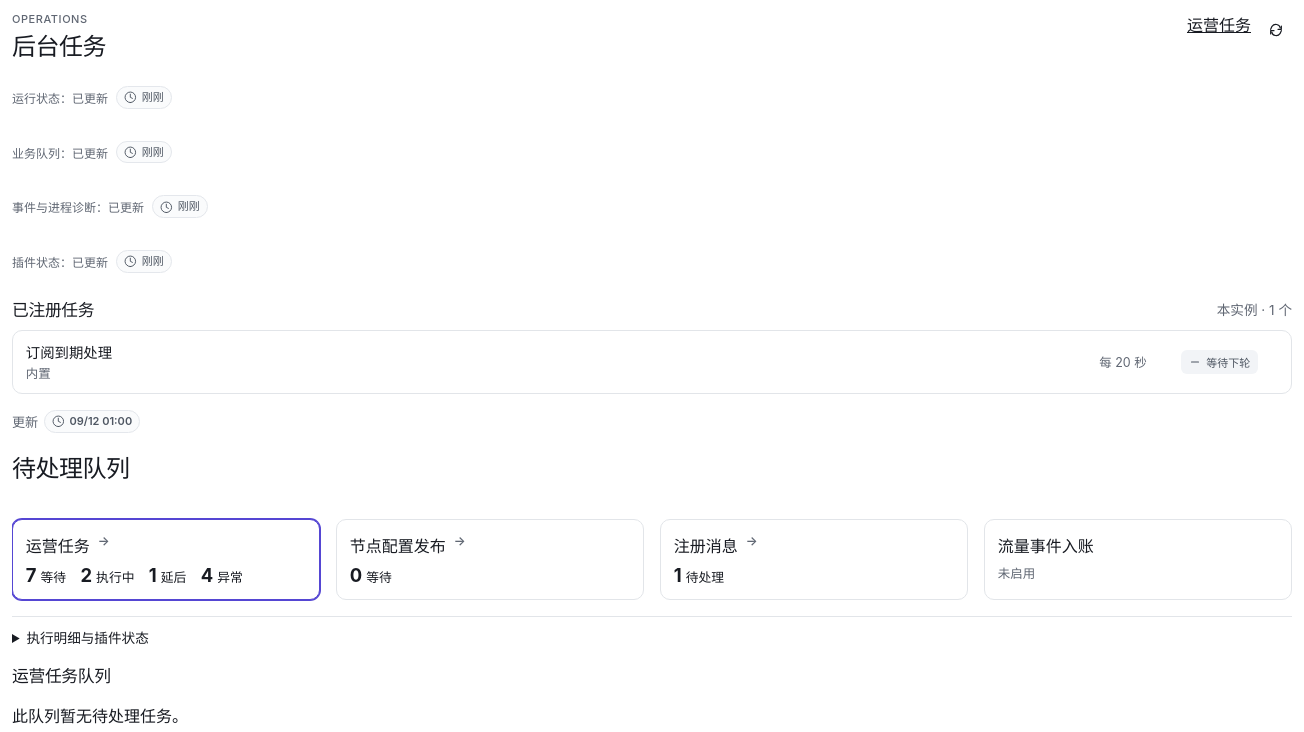
Test case: shows registration backlog as events without node links or invented leases
The image size is (1304, 732).
Click the button "注册消息 → 1 待处理": (706, 546) [660,519,968,600]
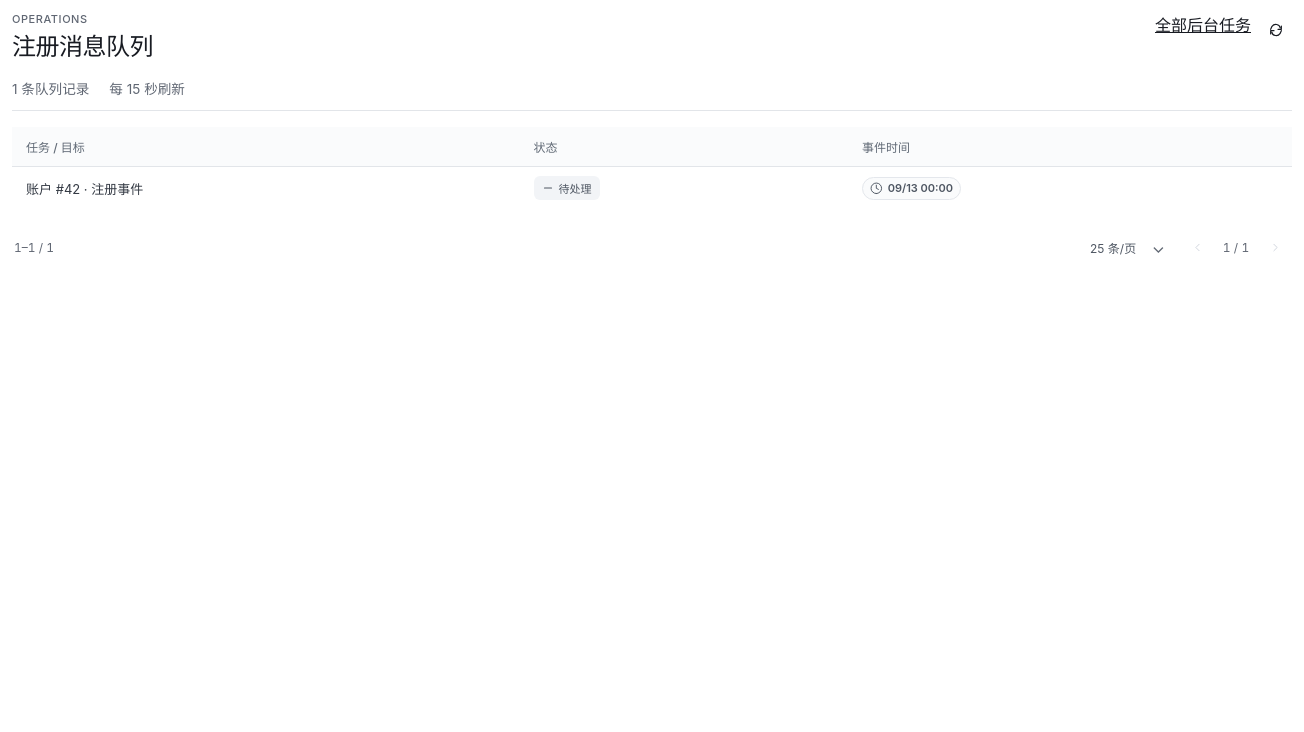
Expected: the text "注册消息队列" is shown, [12,33,153,62]
Expected: the element named "队列明细" shows "账户 #42 · 注册事件", [26,181,143,197]
Expected: the element named "队列明细" shows "事件时间", [862,140,910,155]
